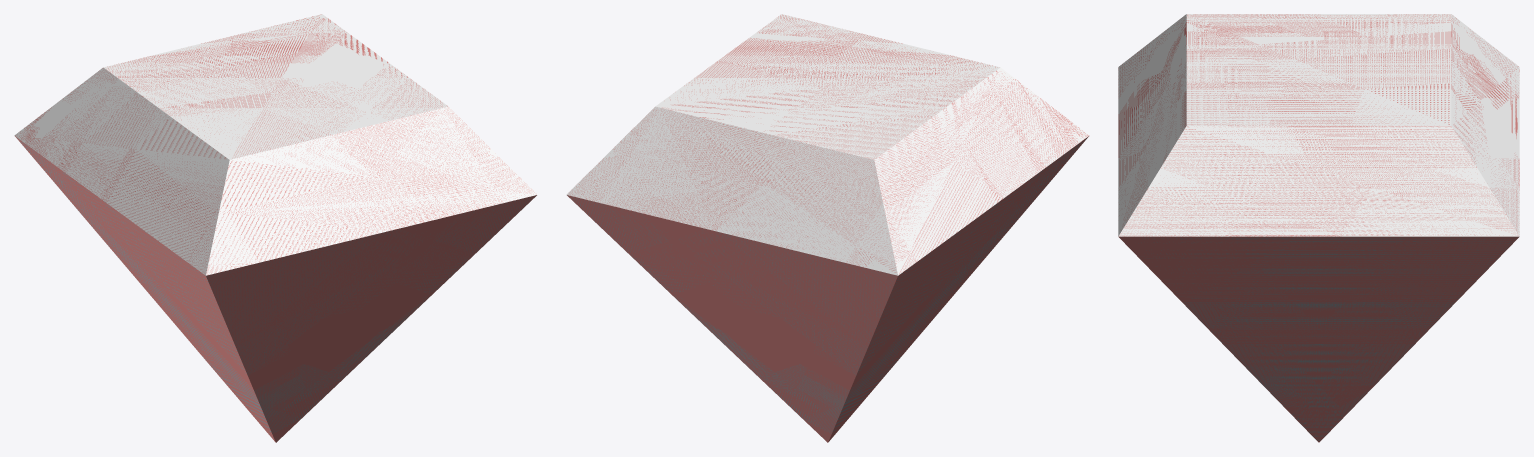
Rendered from Gem Model.fbx.
3 renders of one model, left to right at view 1: azimuth 30°, elevation 25°; view 2: azimuth 150°, elevation 25°; view 3: azimuth 270°, elevation 25°, orthographic. The views are drawn at different scales.
Parts seen in each view (by area): view 1: Model; view 2: Model; view 3: Model.
Part boxes in pixels (x1,y1,x2,y2): Model: [14, 14, 537, 442]; Model: [566, 14, 1089, 442]; Model: [1118, 14, 1519, 442].
Bounding box in the file's own units: 1.52 × 1.56 × 1.52.
